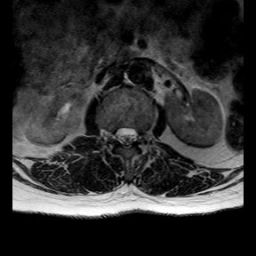CCS_normal: (122, 115, 130, 155)
LFS_normal: (139, 120, 147, 149)
LLS_normal: (130, 119, 139, 151)
RFS_normal: (106, 120, 114, 148)
RLS_normal: (114, 119, 122, 149)
